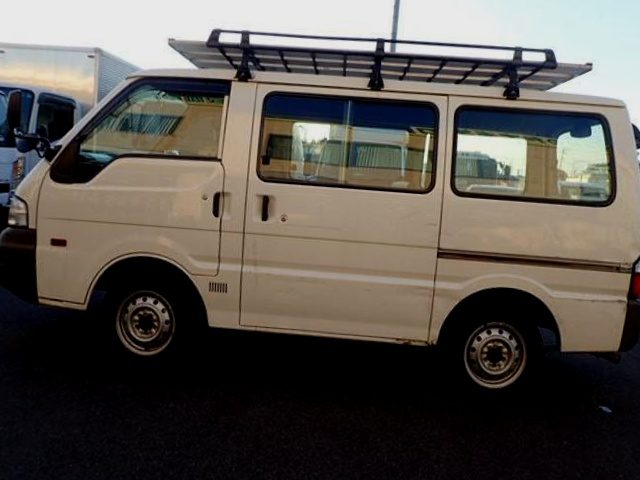van: (0, 20, 640, 406)
